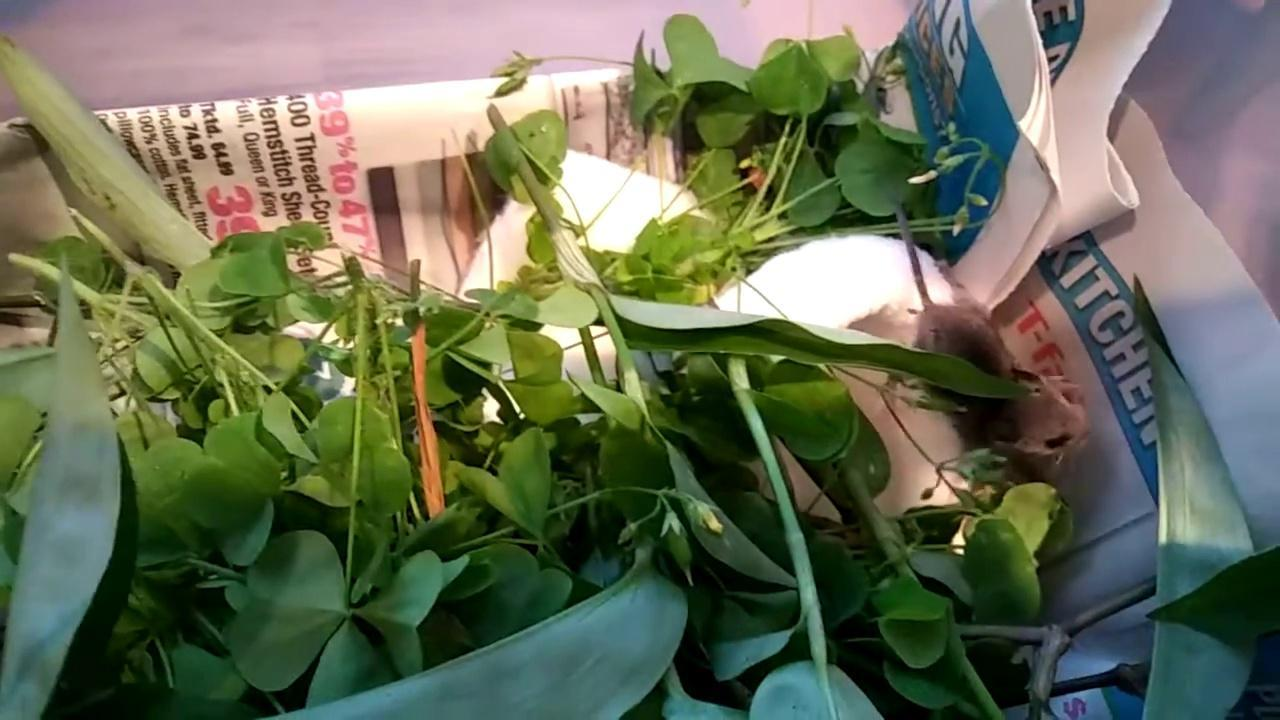rat: (892, 202, 1089, 459)
